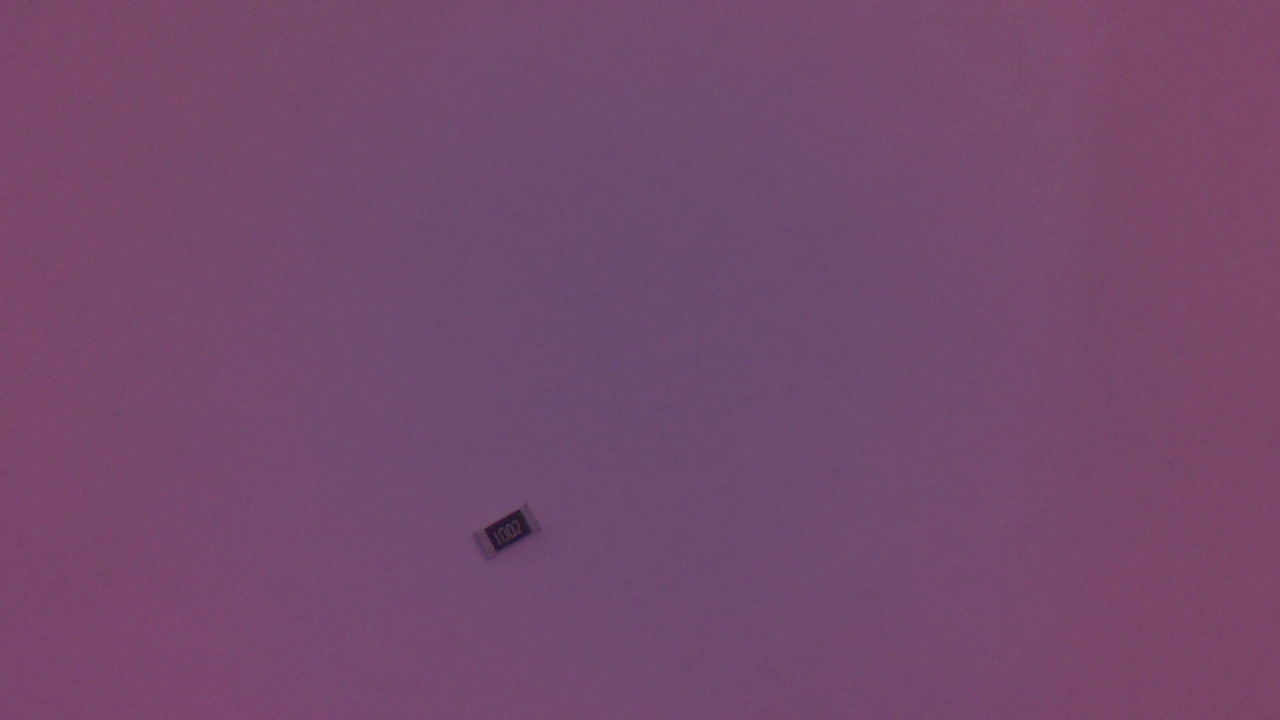Resistor: (472, 501, 555, 578)
